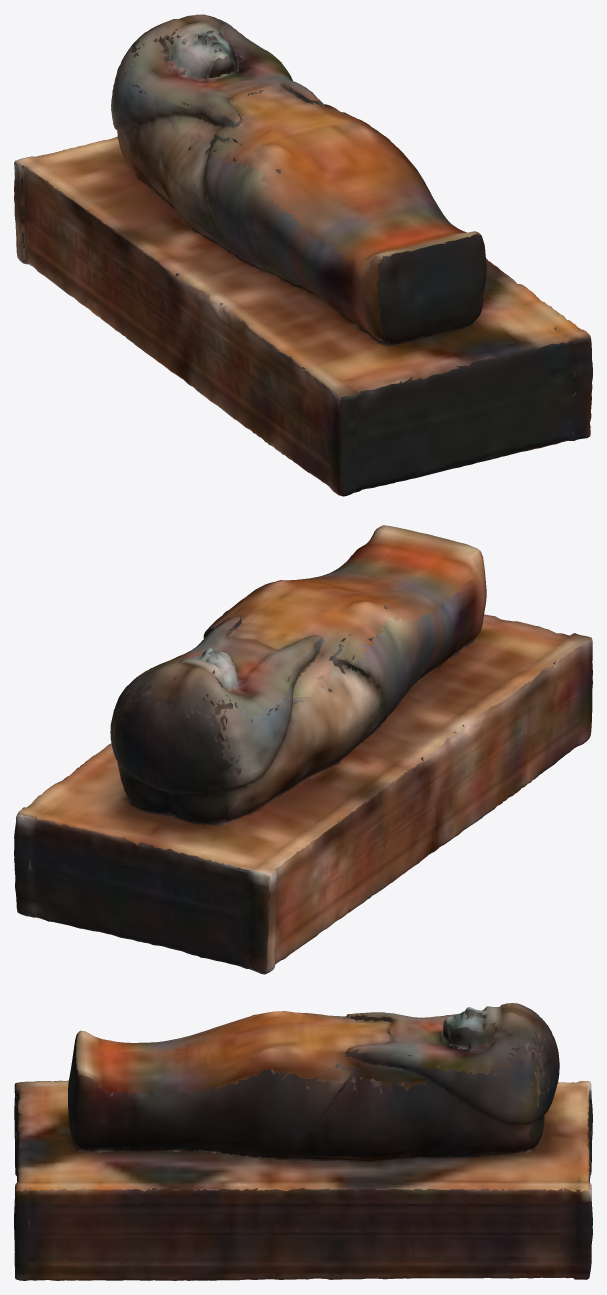
The model's file is Chisisek's Tomb_final.glb.
3 renders of one model, top to bottom at view 1: azimuth 30°, elevation 25°; view 2: azimuth 150°, elevation 25°; view 3: azimuth 270°, elevation 25°, orthographic. The views are drawn at different scales.
Visible parts, largest first — view 1: Mesh_0; view 2: Mesh_0; view 3: Mesh_0.
Boxes of the visible parts, box(x1,y1,x2,y2) form: Mesh_0: box(14, 14, 592, 496); Mesh_0: box(14, 525, 592, 974); Mesh_0: box(14, 1003, 592, 1280).
Size of the model in its own units: 1.95 by 1.8 by 4.28.
Materials: 1 (1 with a texture image).
